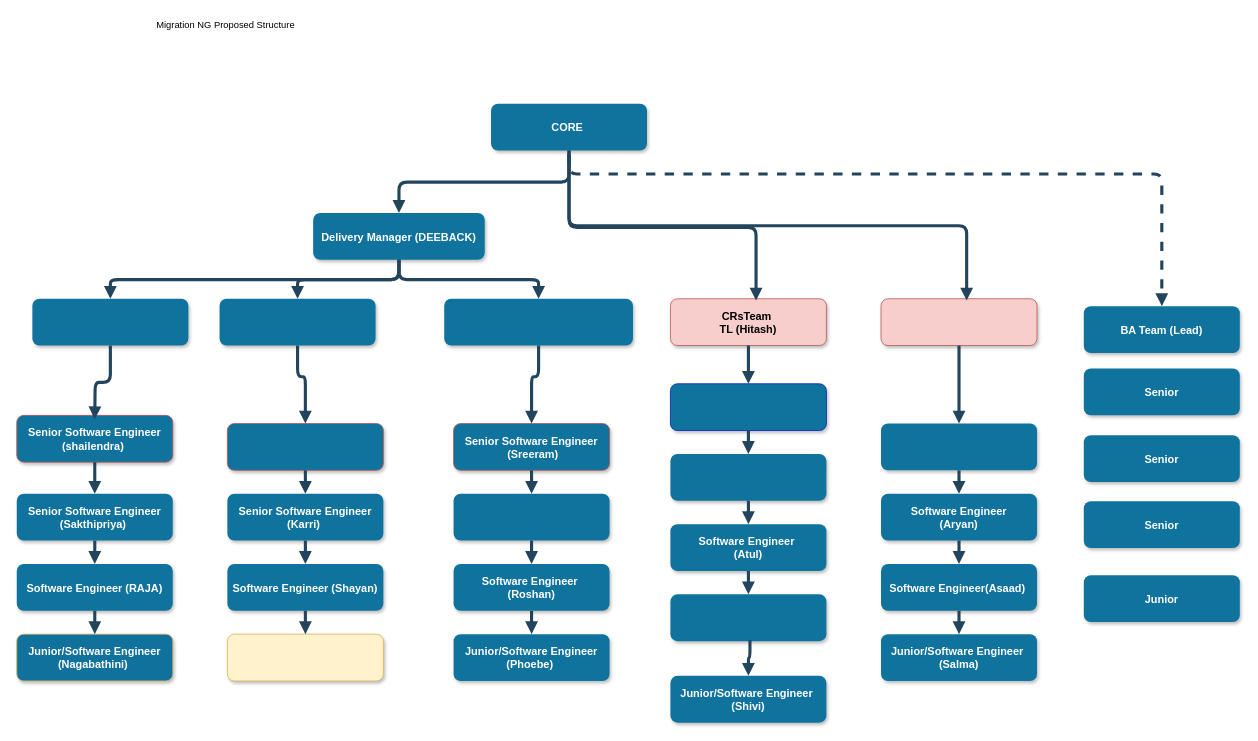
This 1258x741 diagram has some shape labels left out. Here are the shapes that lost their labels. From the top down, the centre of each, then its label:
(111,323): Refinance / RF TL (Dhanoush)
(298,323): Direct PF/ CC TL(BED)
(539,323): Advanced Salary / BuyOut TL (Ibrahim )
(959,323): Support Team (Hitash)
(749,408): Senior Software Engineer (Tanu)
(305,448): Senior Software Engineer (Sanjay)
(959,447): Senior Software Engineer (Nihal)
(749,478): Senior Software Engineer (Muzammil)
(532,518): Senior Software Engineer (Shubham)
(749,618): Junior/Software Engineer (Sabareeswar)
(305,658): Junior/Software Engineer
